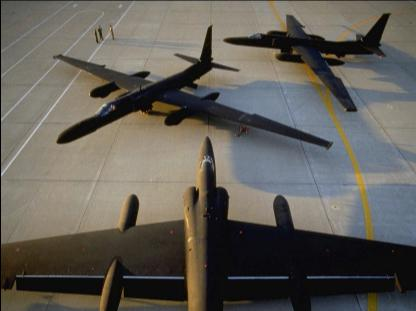Tu160: (1, 134, 415, 310), (52, 24, 333, 150), (222, 13, 390, 111)
